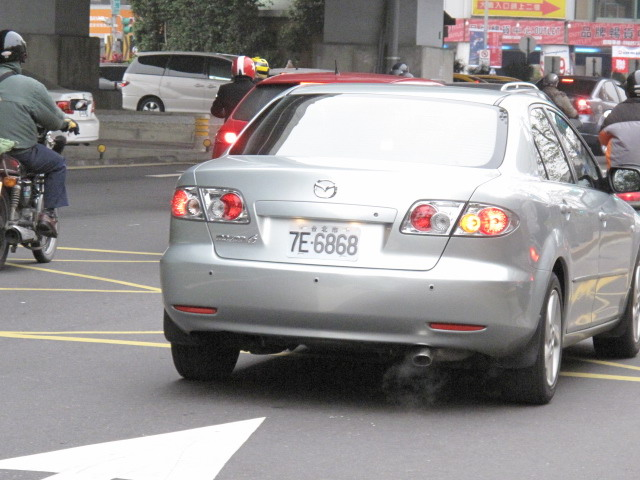plate: (287, 222, 362, 262)
